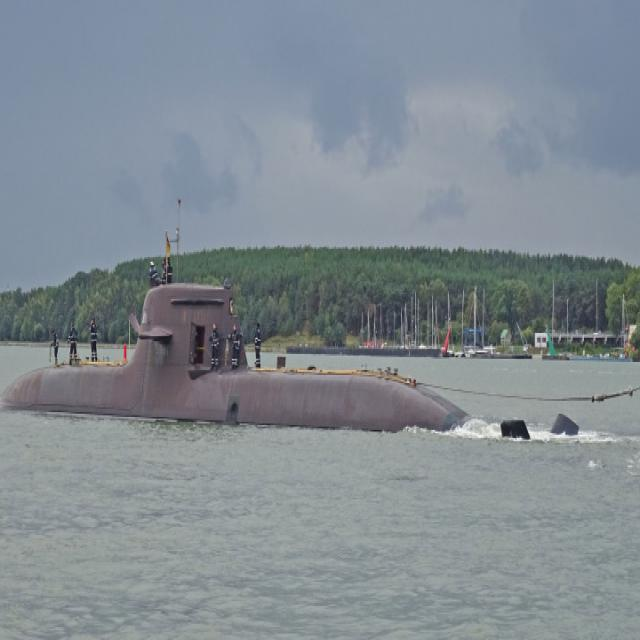submarine: (1, 285, 581, 435)
